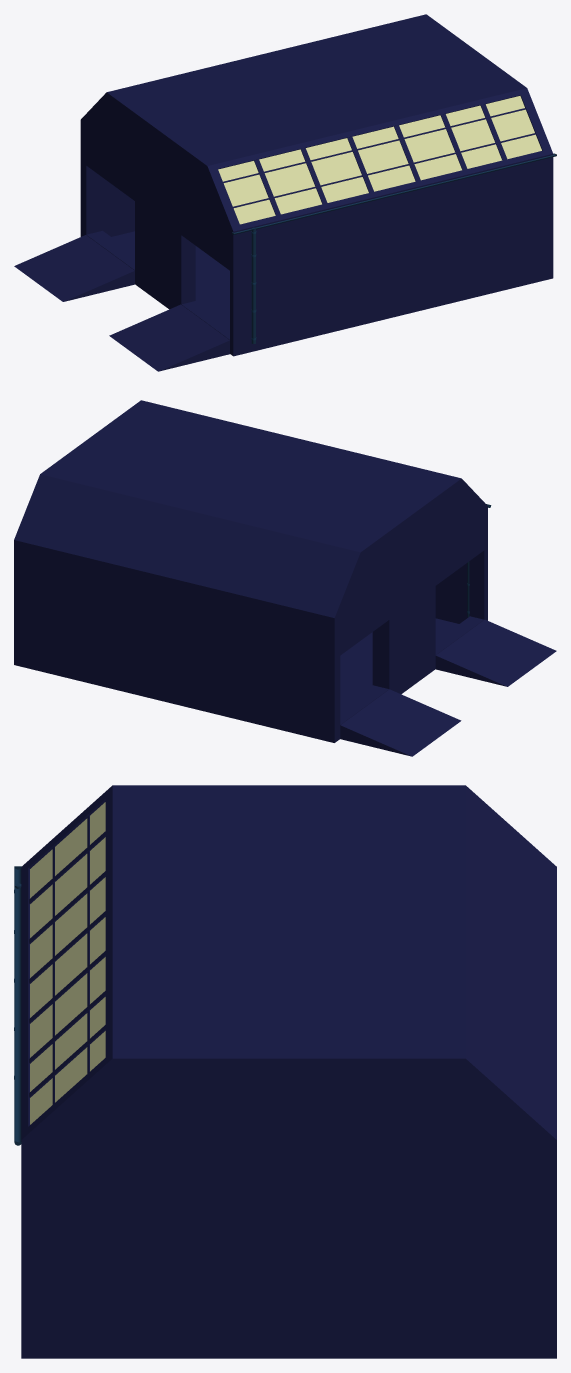
The model's file is Lagerhalle.fbx.
3 views of the same model, one above another, from view 1: azimuth 30°, elevation 25°; view 2: azimuth 150°, elevation 25°; view 3: azimuth 270°, elevation 25° (orthographic). The views are drawn at different scales.
Parts seen in each view (by area): view 1: pCube12, pCube1, pCube11, pCylinder2, pCylinder1; view 2: pCube12, pCube1, pCube11; view 3: pCube12, pCylinder2.
Part boxes in pixels (x1=…): pCube12: x1=80, y1=14, x2=553, y2=356; pCube1: x1=109, y1=304, x2=229, y2=371; pCube11: x1=14, y1=235, x2=134, y2=301; pCylinder2: x1=232, y1=153, x2=556, y2=234; pCylinder1: x1=251, y1=227, x2=255, y2=343; pCube12: x1=14, y1=400, x2=487, y2=742; pCube1: x1=435, y1=619, x2=556, y2=686; pCube11: x1=340, y1=689, x2=461, y2=756; pCube12: x1=21, y1=785, x2=556, y2=1358; pCylinder2: x1=14, y1=866, x2=21, y2=1145.
Size of the model in its own units: 29.73 by 12.36 by 20.28.
